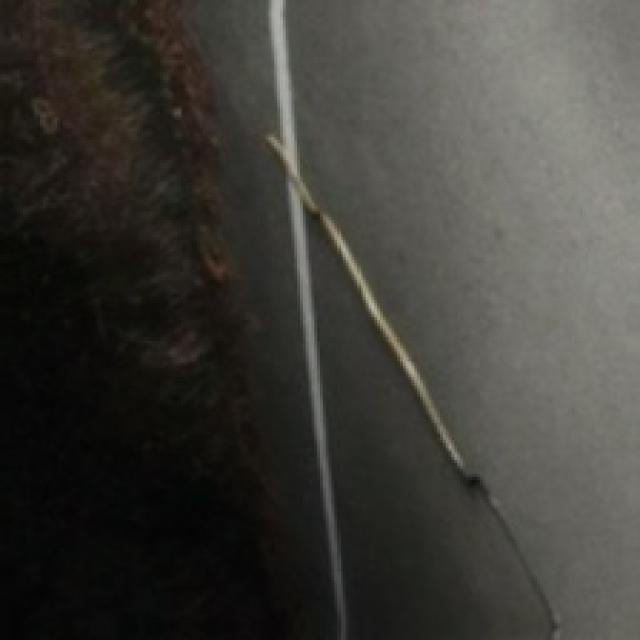king cobra: (0, 0, 283, 637)
